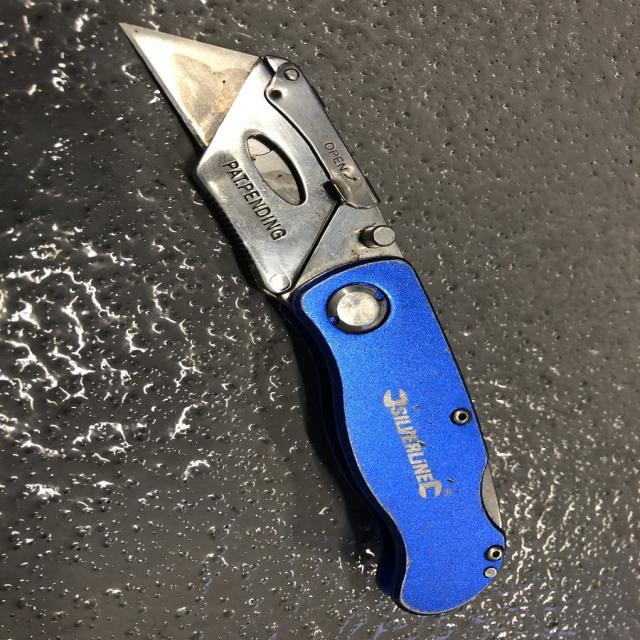Sharp-Object: (118, 20, 510, 612)
